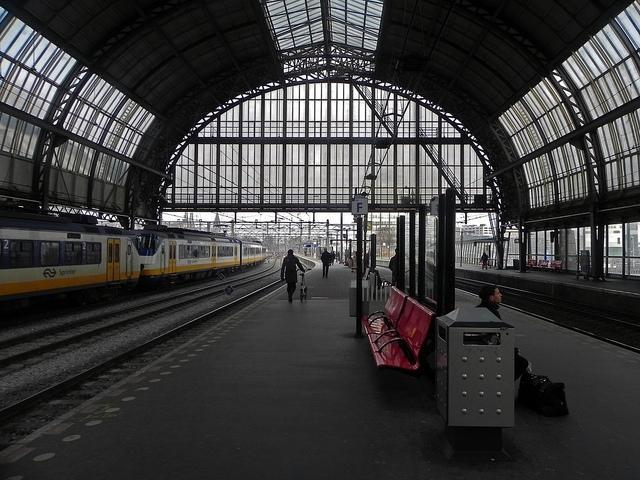bicycle: (296, 268, 312, 304)
